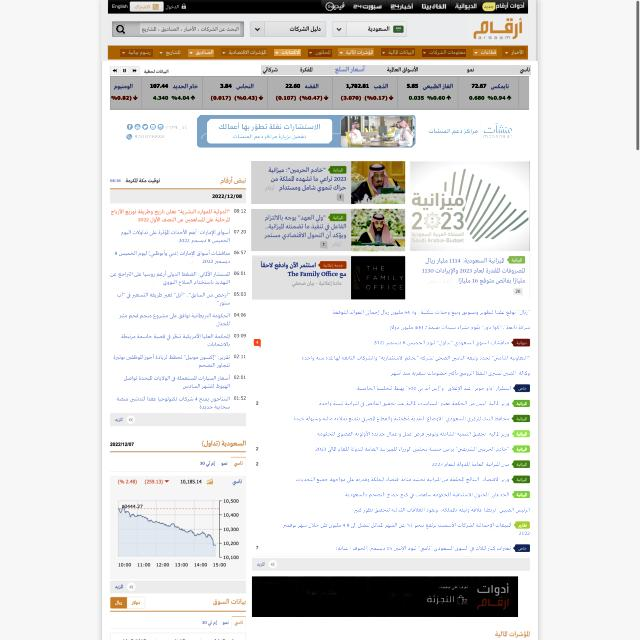CheckedTextView: (115, 21, 246, 37)
ImageView: (109, 114, 532, 152), (252, 576, 518, 617)
QR code: (252, 303, 532, 556), (108, 204, 246, 412), (110, 76, 529, 110)
RadioButton: (510, 474, 530, 484), (511, 338, 531, 347), (511, 490, 530, 499), (513, 384, 530, 393), (511, 399, 530, 407), (511, 414, 530, 422), (511, 430, 530, 438), (511, 460, 530, 468), (512, 445, 530, 453), (513, 522, 530, 530), (513, 544, 530, 552)
Spinner: (410, 160, 529, 300), (252, 255, 405, 300), (251, 161, 405, 204), (251, 209, 405, 251)
alert: (252, 21, 328, 37), (334, 22, 409, 36), (223, 48, 269, 56), (424, 49, 468, 57), (341, 48, 376, 56), (383, 48, 417, 56), (122, 49, 155, 57), (504, 47, 528, 57), (190, 49, 217, 57), (161, 49, 183, 58), (310, 49, 334, 57), (276, 49, 303, 56), (475, 49, 499, 56)
bag: (101, 0, 540, 61)
carousel: (118, 24, 127, 35), (183, 2, 189, 11), (336, 26, 344, 32), (256, 27, 264, 31)
date picker: (470, 16, 530, 42)
decoration: (109, 45, 530, 59), (261, 65, 531, 75), (324, 0, 529, 13)
dropdown: (110, 66, 140, 75)
footer: (142, 23, 242, 34)
